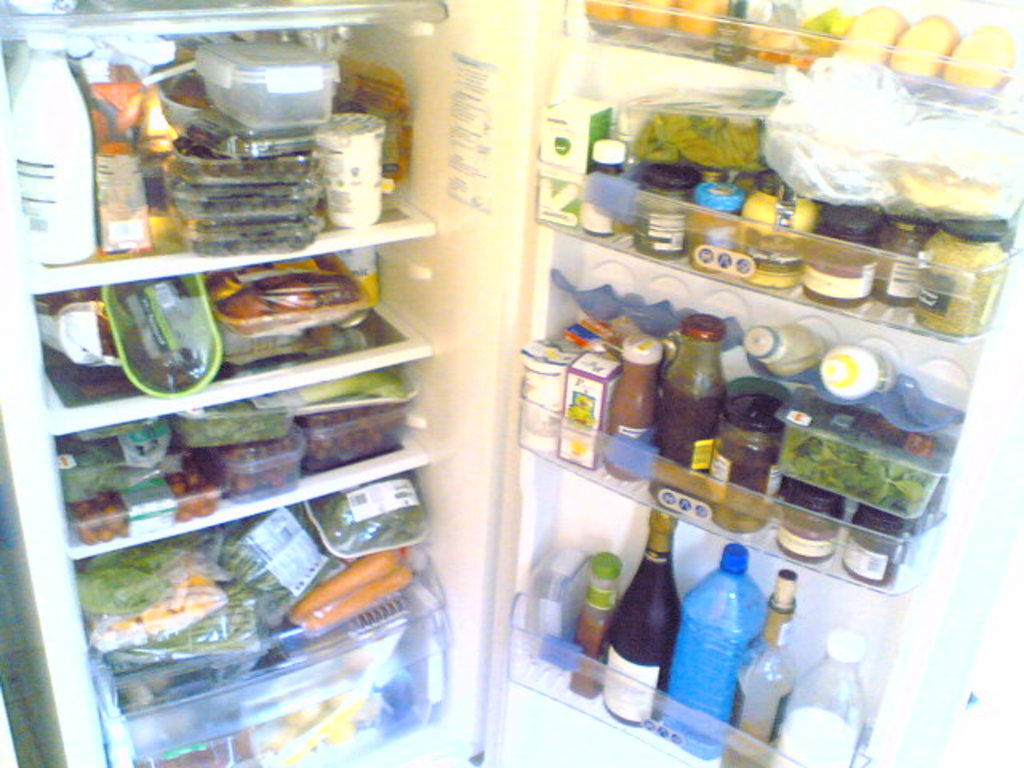refrigerator door: (568, 48, 950, 768)
